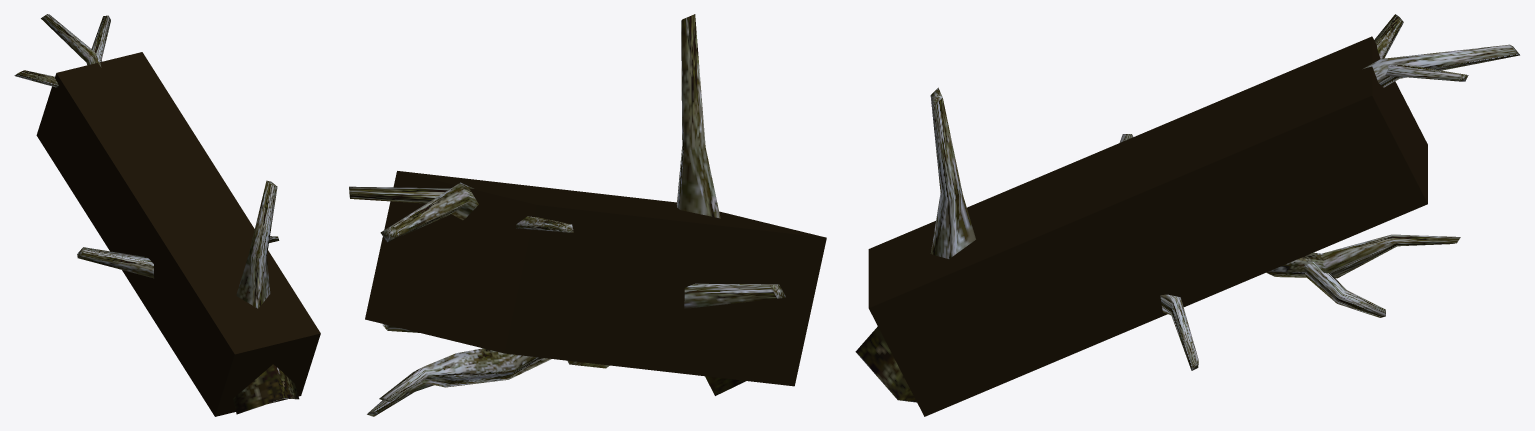
The model's file is OZ_00_hd_Ctree01D.glb.
3 renders of one model, left to right at view 1: azimuth 30°, elevation 25°; view 2: azimuth 150°, elevation 25°; view 3: azimuth 270°, elevation 25°, orthographic. The views are drawn at different scales.
Parts seen in each view (by area): view 1: OM_00_hd_Ctree01D; view 2: OM_00_hd_Ctree01D; view 3: OM_00_hd_Ctree01D.
Boxes of the visible parts, x1,y1,x2,y2 form: OM_00_hd_Ctree01D: (14, 14, 320, 416); OM_00_hd_Ctree01D: (349, 14, 826, 416); OM_00_hd_Ctree01D: (855, 14, 1519, 416).
Size of the model in its own units: 4.19 by 4.52 by 7.59.
2 materials, 2 textured.
